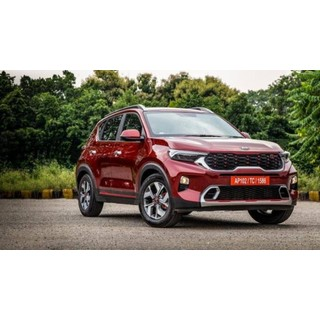car: (69, 104, 300, 227)
